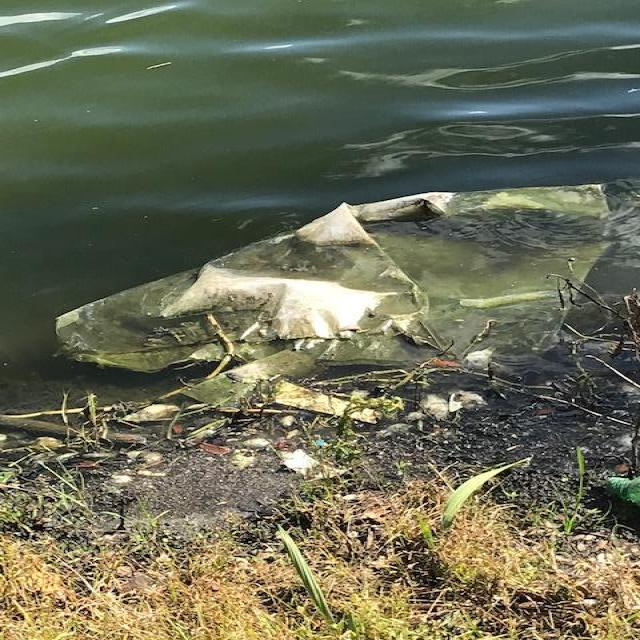litter: (244, 14, 547, 441), (509, 193, 565, 276)
